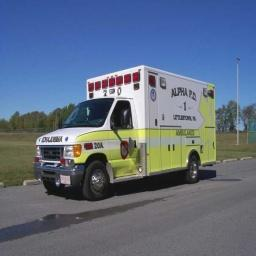Ambulance: (34, 66, 215, 199)
